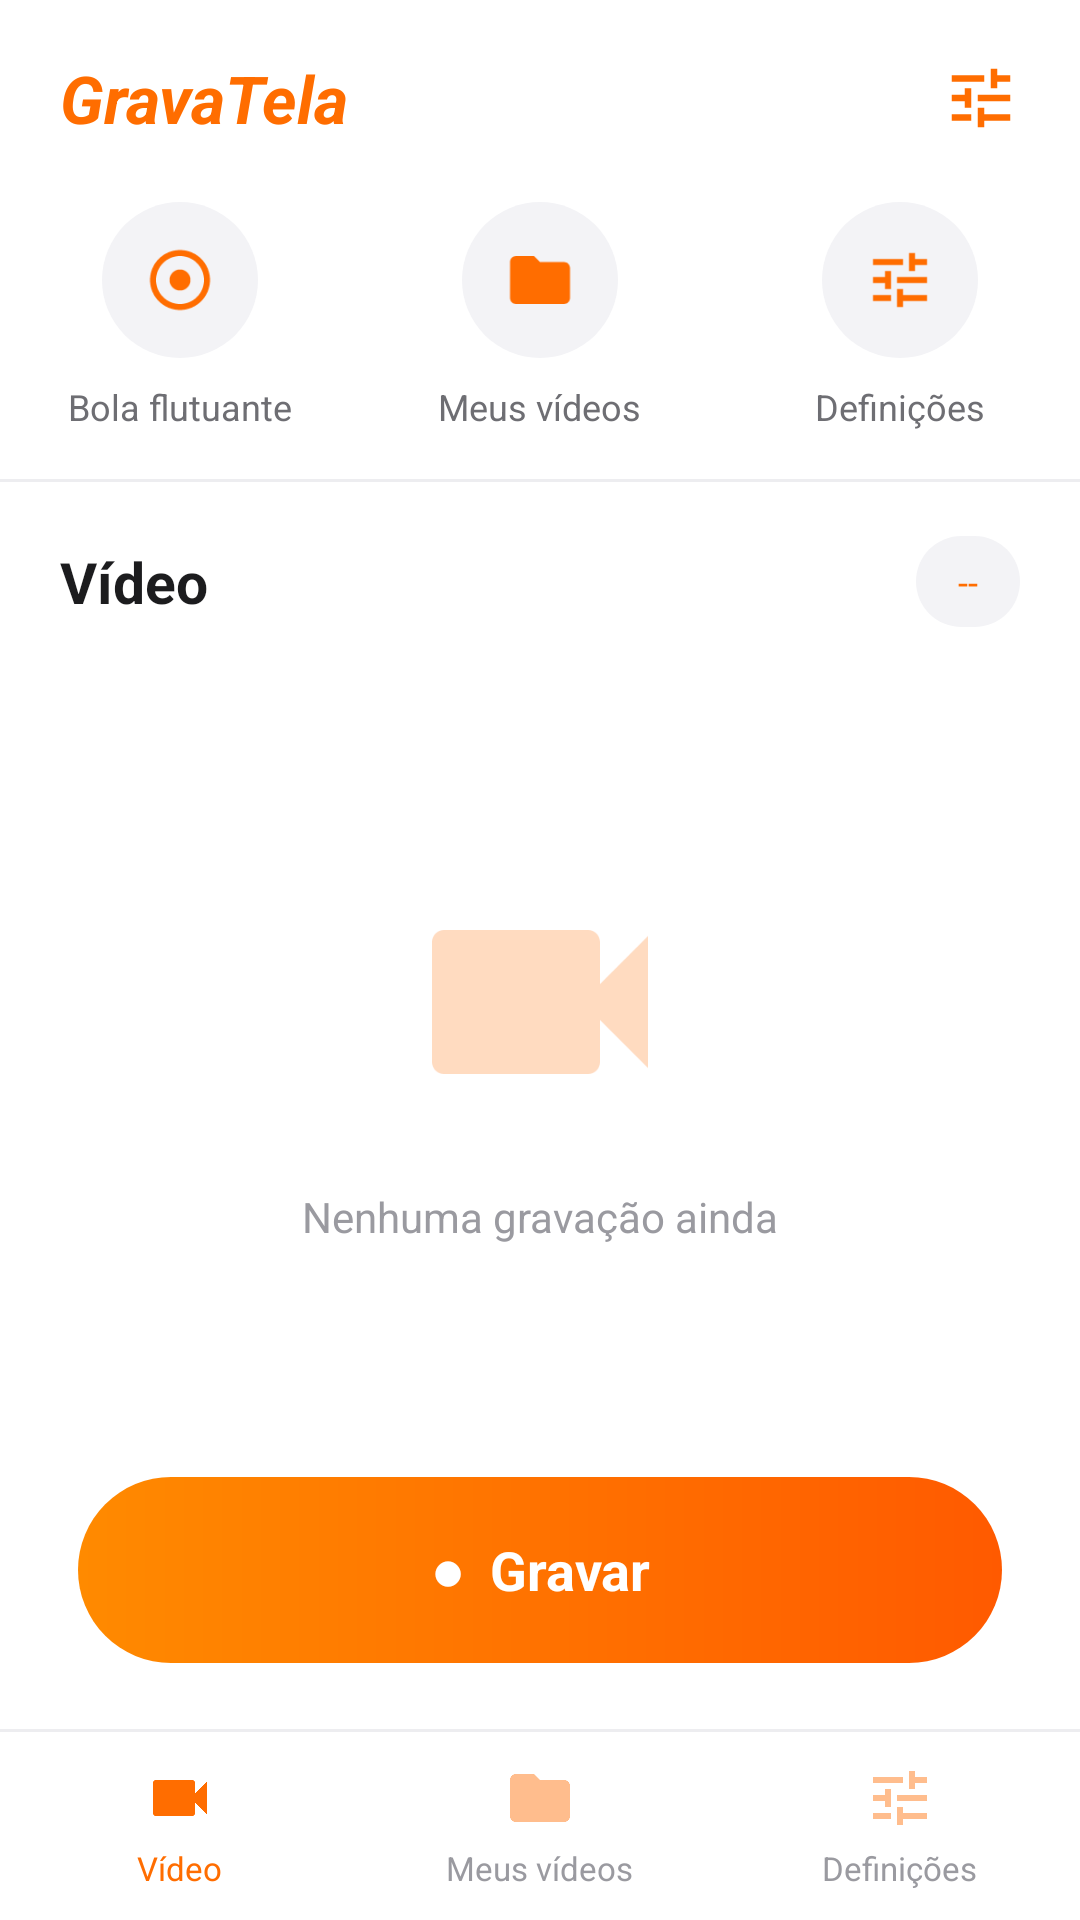

Screen size 1080x1920. Icon name, then its box in pixels as {"left": x1, "top": y1, "right": x2, "bottom": y2}:
Sem gravações: {"left": 432, "top": 930, "right": 648, "bottom": 1074}
